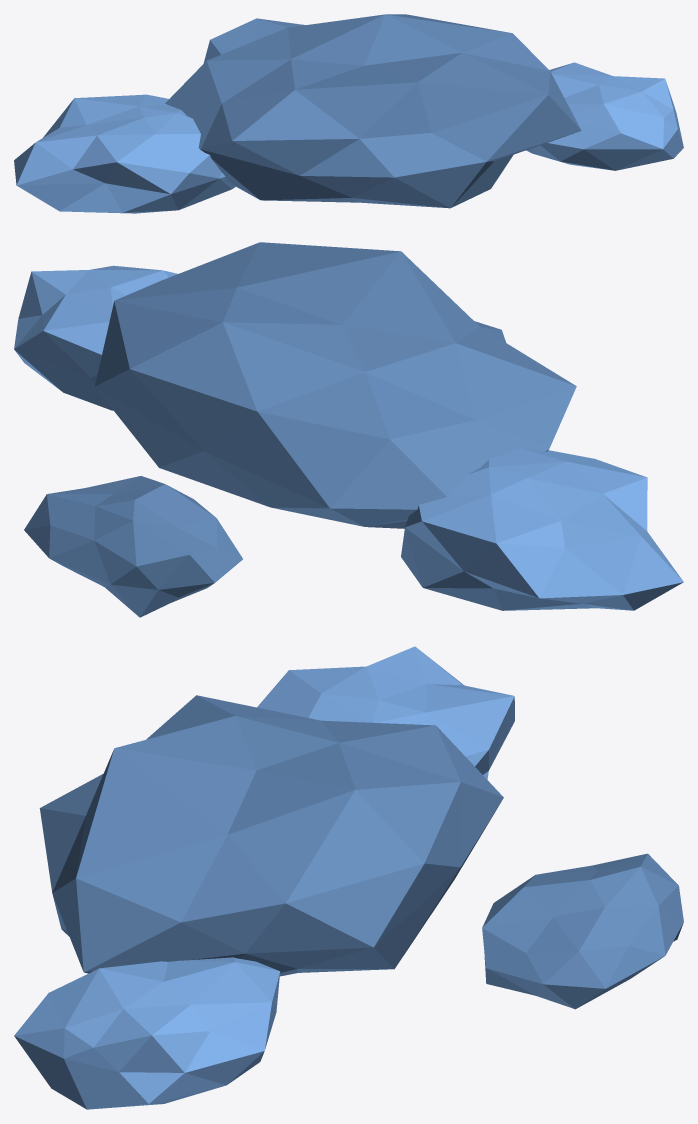
Rendered from t4_rock_depleted.glb.
3 renders of one model, top to bottom at view 1: azimuth 30°, elevation 25°; view 2: azimuth 150°, elevation 25°; view 3: azimuth 270°, elevation 25°, orthographic. The views are drawn at different scales.
Visible parts, largest first — view 1: RubbleCenter, RubbleLeft, RubbleRight, RubbleFront; view 2: RubbleCenter, RubbleLeft, RubbleFront, RubbleRight; view 3: RubbleCenter, RubbleRight, RubbleFront, RubbleLeft.
Part boxes in pixels (box(x1,y1,x2,y2)): RubbleCenter: box(165, 14, 581, 208); RubbleLeft: box(14, 94, 235, 213); RubbleRight: box(526, 62, 683, 170); RubbleFront: box(203, 18, 305, 63); RubbleCenter: box(95, 242, 576, 528); RubbleLeft: box(401, 448, 683, 610); RubbleFront: box(24, 476, 242, 617); RubbleRight: box(14, 265, 177, 410); RubbleCenter: box(39, 695, 503, 976); RubbleRight: box(14, 957, 280, 1109); RubbleFront: box(482, 853, 683, 1009); RubbleLeft: box(257, 646, 514, 779).
Size of the model in its own units: 1.02 by 0.2306 by 0.7037.
